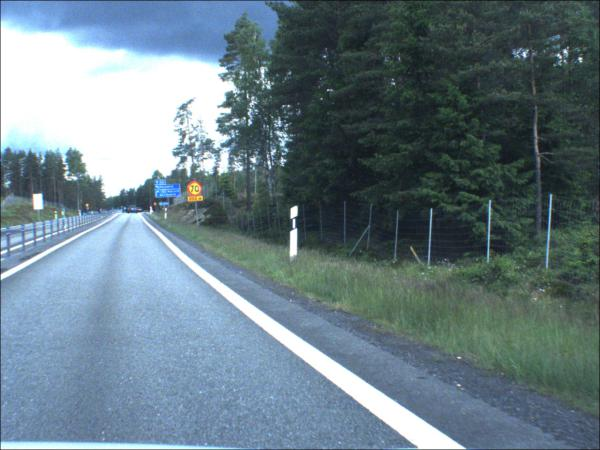70_SIGN: (188, 183, 204, 197), (87, 204, 91, 209), (155, 204, 158, 208)
